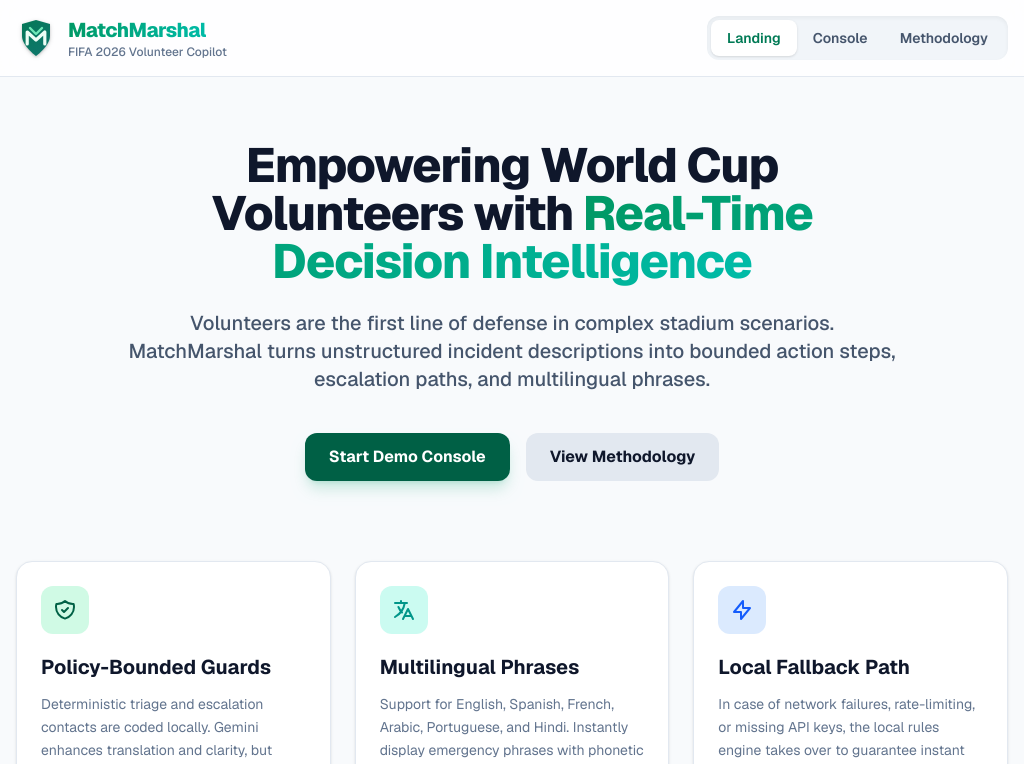
it: MatchMarshal App Accessibility (Axe) › has no axe violations on methodology tab
# Go to methodology
Click the button "Methodology": (944, 38) [884, 20, 1004, 56]
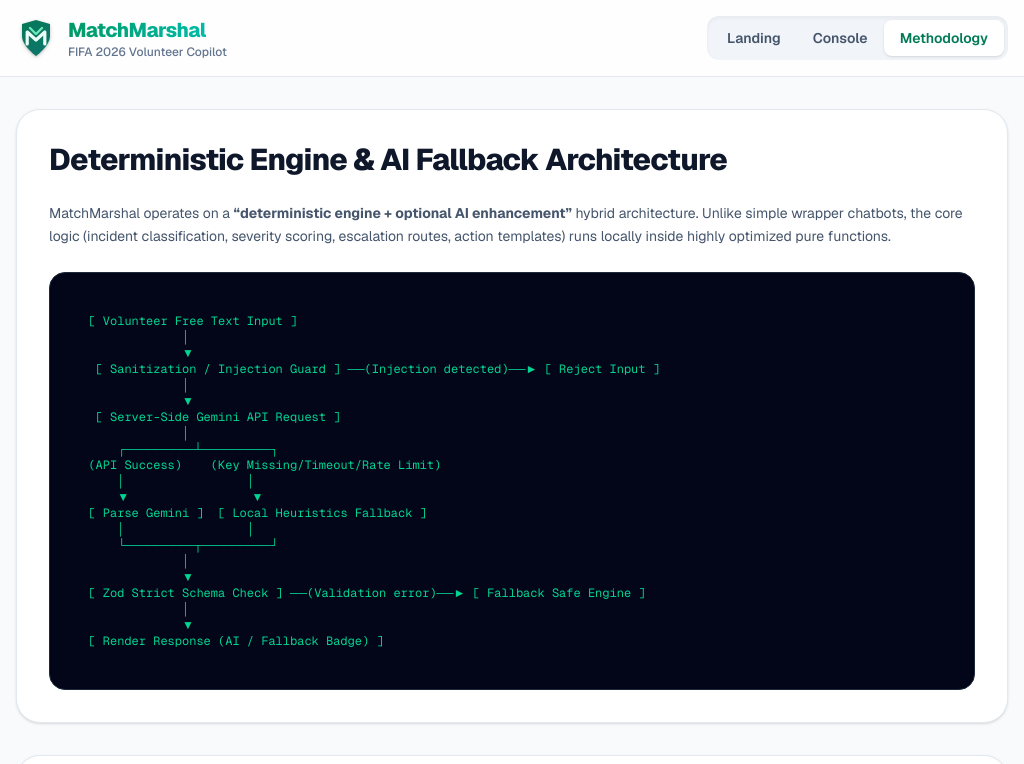
Check: the heading "Deterministic Engine & AI Fallback Architecture" is shown, box [49, 140, 727, 179]
